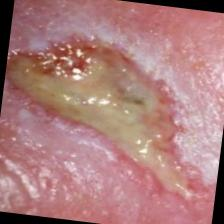wound-ulser: (0, 25, 215, 203)
